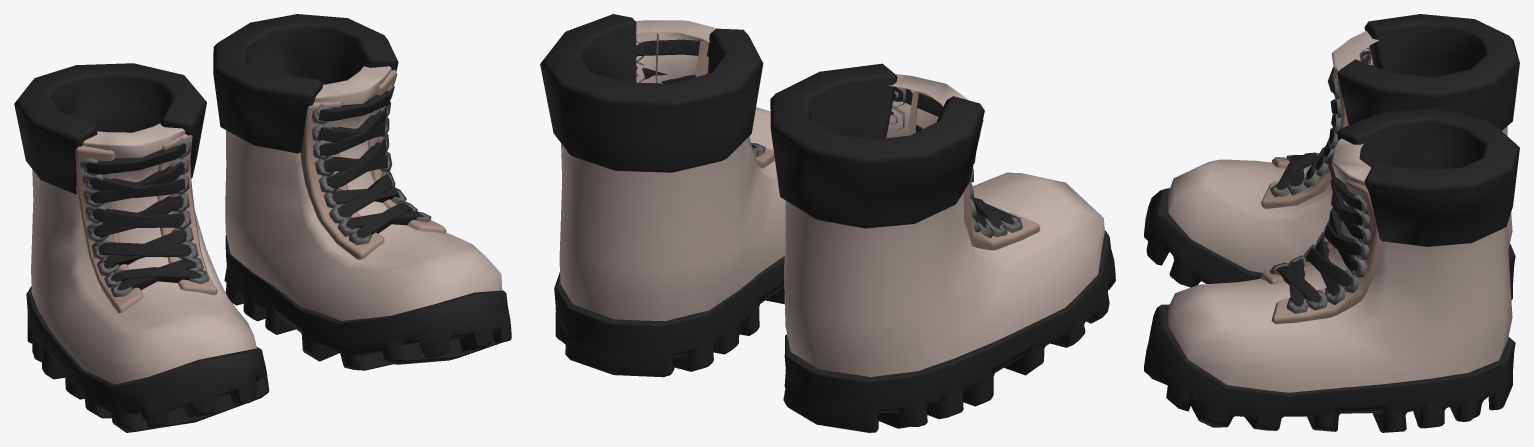
Rendered from Shoe_Boot_001.glb.
3 views of the same model, side by side, from view 1: azimuth 30°, elevation 25°; view 2: azimuth 150°, elevation 25°; view 3: azimuth 270°, elevation 25° (orthographic). The views are drawn at different scales.
Parts seen in each view (by area): view 1: Shoe_Boot_001; view 2: Shoe_Boot_001; view 3: Shoe_Boot_001.
Boxes of the visible parts, left/top/right/bottom form: Shoe_Boot_001: left=14, top=14, right=511, bottom=432; Shoe_Boot_001: left=540, top=14, right=1115, bottom=432; Shoe_Boot_001: left=1144, top=14, right=1519, bottom=432.
Bounding box in the file's own units: 0.4305 × 0.2624 × 0.355.
1 material, 1 textured.
